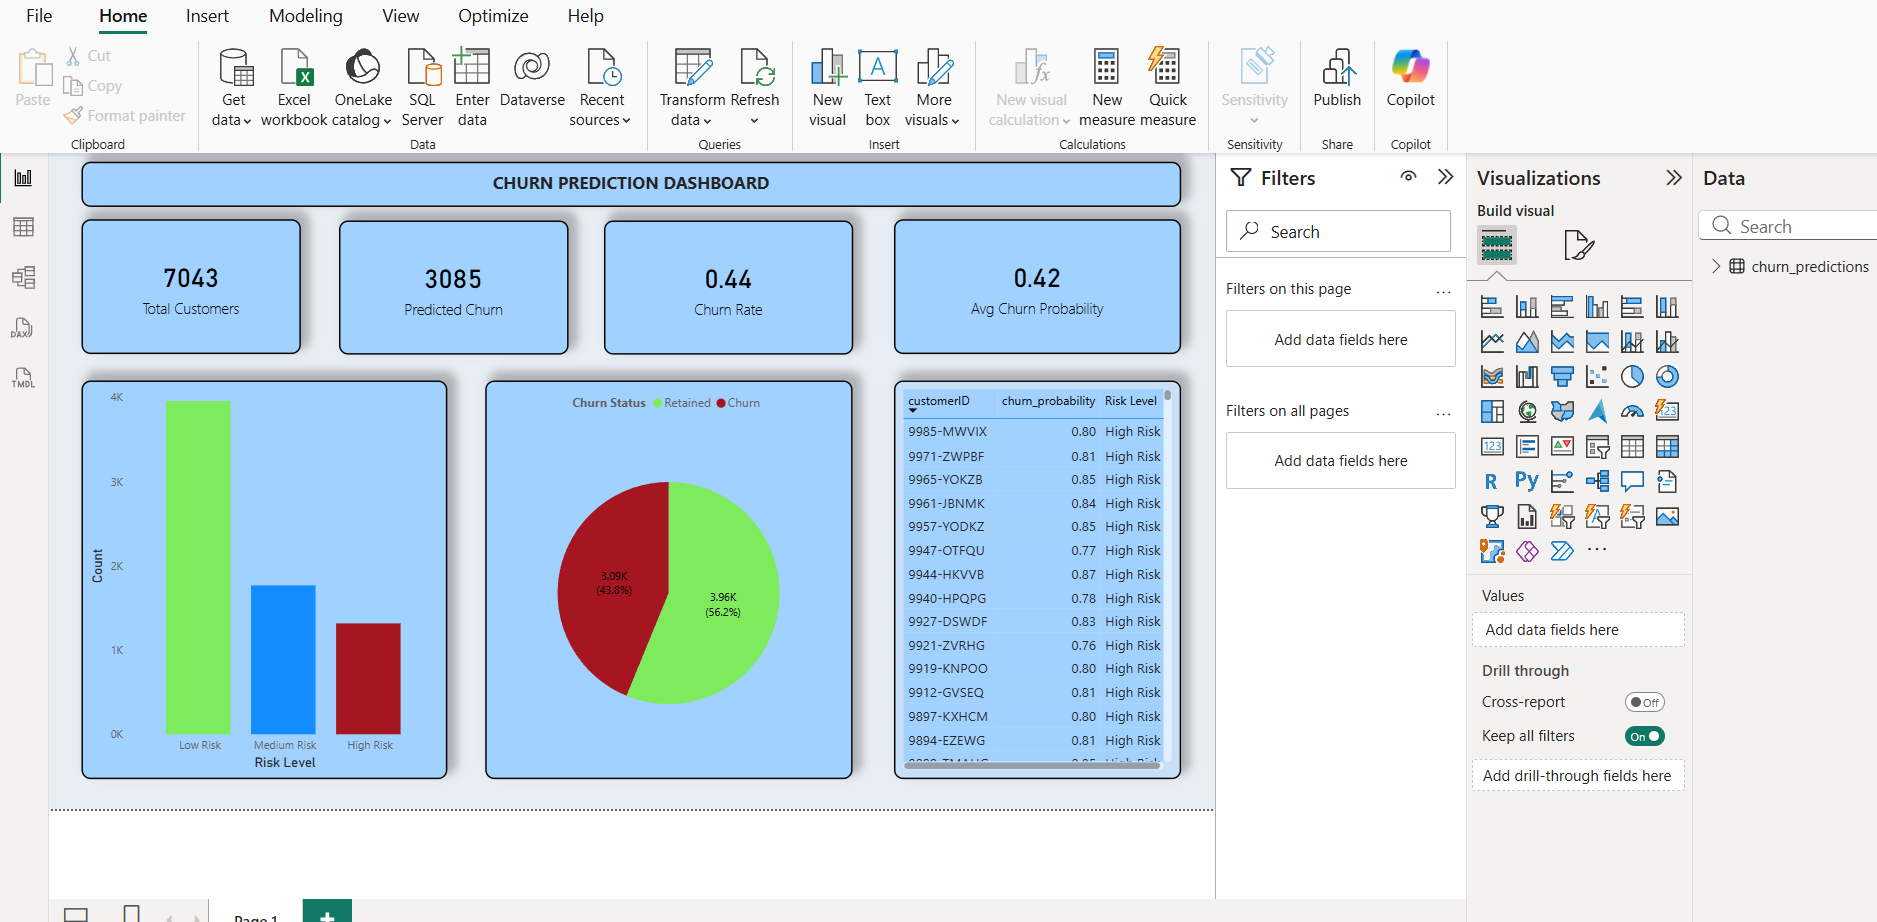

This screenshot's page, from the dashboard's own definition file:
{"tool":"powerbi","page":{"name":"Page 1","canvas":[1280,720],"ordinal":0},"visuals":[{"type":"card","fields":{"Values":["churn_predictions.Total Customers"]},"box":[35.6,72.7,240.9,148.2],"z":0},{"type":"card","fields":{"Values":["churn_predictions.Predicted Churn"]},"box":[317.9,74.1,252.3,146.8],"z":1000},{"type":"card","fields":{"Values":["churn_predictions.Churn Rate"]},"box":[608.6,74.1,273.7,146.8],"z":2000},{"type":"card","fields":{"Values":["churn_predictions.Avg Churn Probability"]},"box":[927.9,72.7,315,148.2],"z":3000},{"type":"pieChart","fields":{"Category":["churn_predictions.Churn Status"],"Y":["CountNonNull(churn_predictions.customerID)"]},"box":[478.9,249.4,403.4,437.6],"z":4000},{"type":"columnChart","fields":{"Y":["CountNonNull(churn_predictions.customerID)"],"Category":["churn_predictions.Risk Level"]},"box":[35.6,249.4,402,437.6],"z":5000},{"type":"tableEx","fields":{"Values":["churn_predictions.customerID","churn_predictions.churn_probability","churn_predictions.Risk Level"]},"box":[927.9,249.4,315,437.6],"z":6000},{"type":"textbox","box":[35.6,10,1207.3,49.9],"z":7000}]}

Visuals, with their boxes on the page's 1280x720 design canvas (x1, y1, x2, y2). These are canvas units, not pixel positions in the 1877x922 screenshot, which may show the page scaled, cropped or inside an application window:
card - churn_predictions.Total Customers: pyautogui.locateOnScreen(36, 73, 276, 221)
card - churn_predictions.Predicted Churn: pyautogui.locateOnScreen(318, 74, 570, 221)
card - churn_predictions.Churn Rate: pyautogui.locateOnScreen(609, 74, 882, 221)
card - churn_predictions.Avg Churn Probability: pyautogui.locateOnScreen(928, 73, 1243, 221)
pieChart - churn_predictions.Churn Status x CountNonNull(churn_predictions.customerID): pyautogui.locateOnScreen(479, 249, 882, 687)
columnChart - CountNonNull(churn_predictions.customerID) x churn_predictions.Risk Level: pyautogui.locateOnScreen(36, 249, 438, 687)
tableEx - churn_predictions.customerID x churn_predictions.churn_probability: pyautogui.locateOnScreen(928, 249, 1243, 687)
textbox: pyautogui.locateOnScreen(36, 10, 1243, 60)
